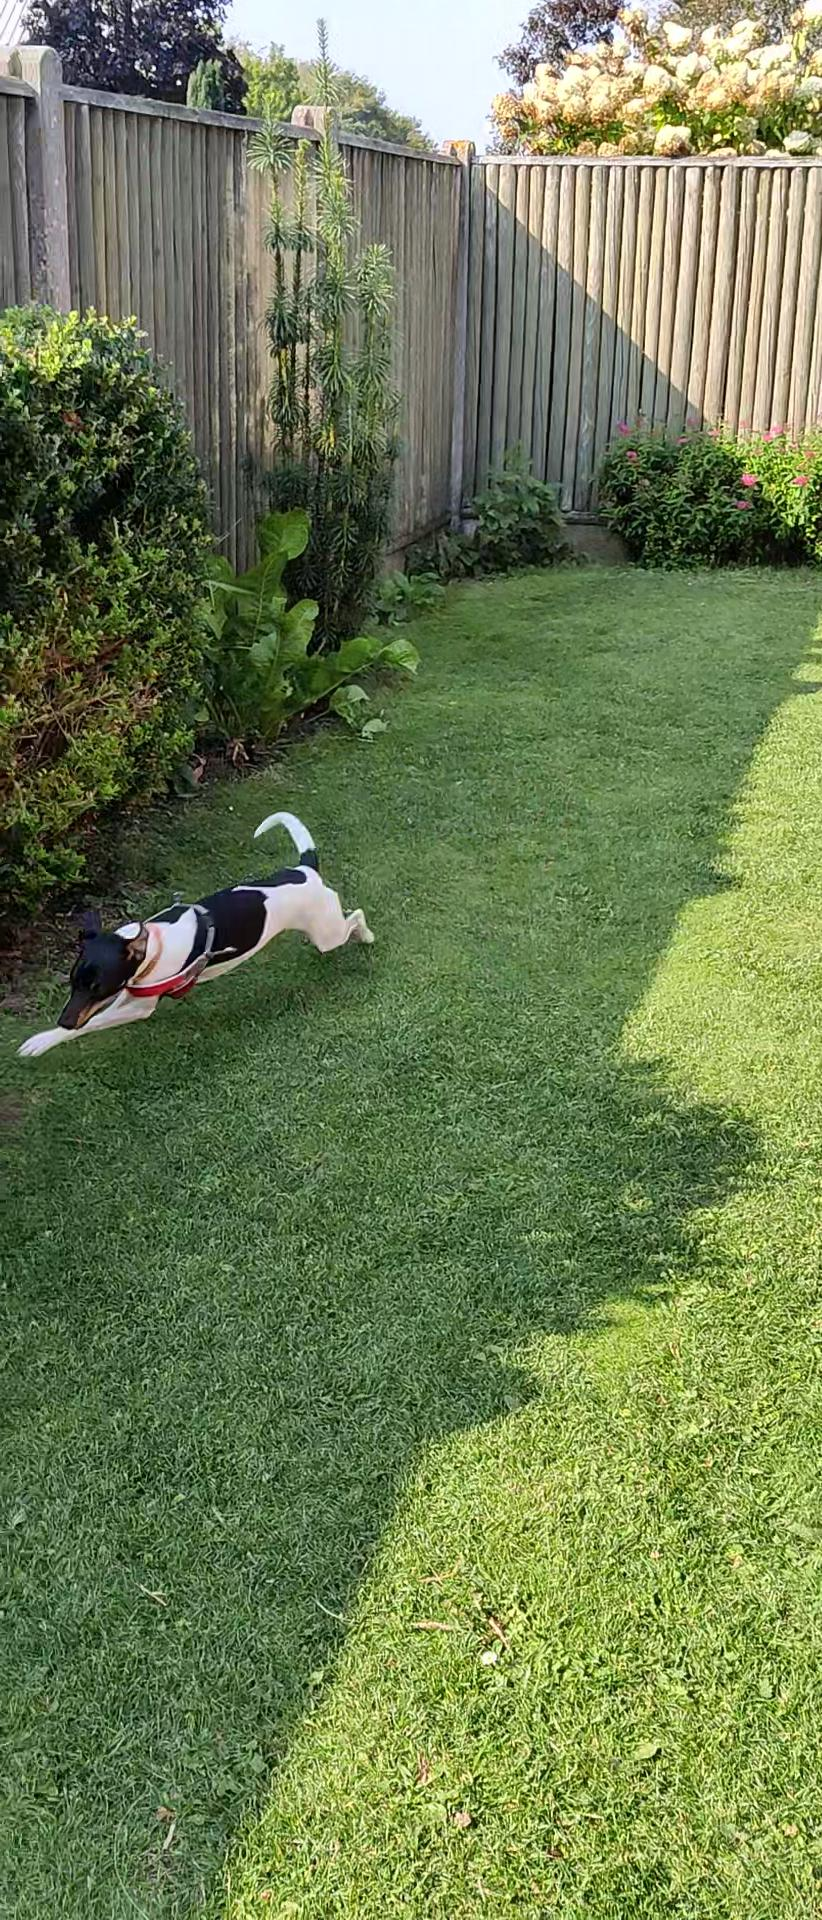Dog: (5, 802, 383, 1070)
